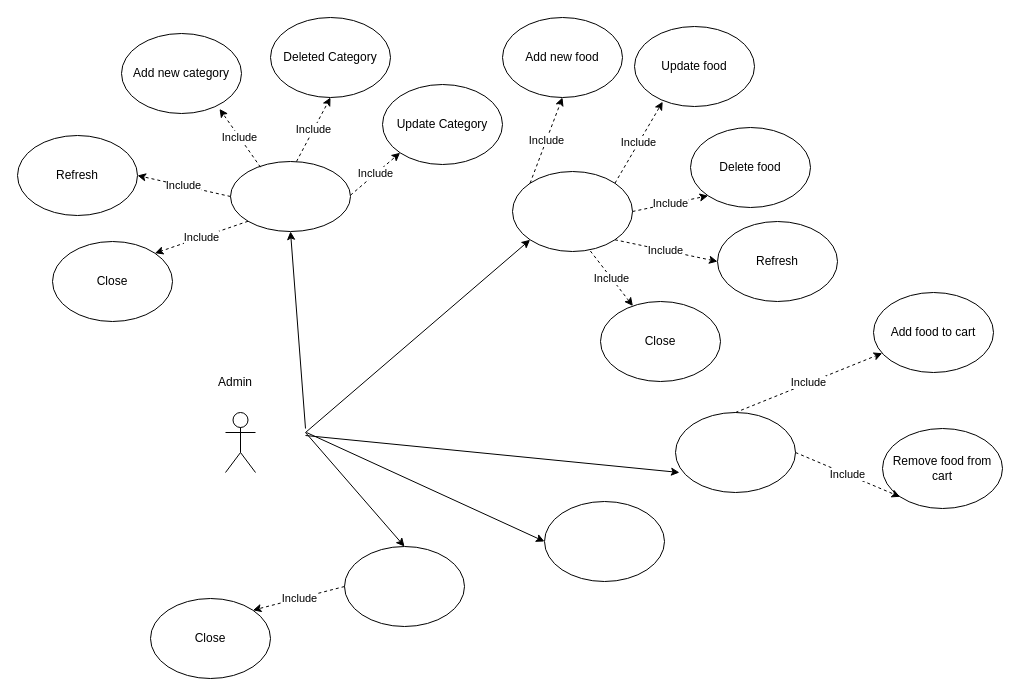
The diagram is 1020 pixels wide and 696 high, and some of its shapes have lost their labels. The shapes that lost their labels are listed below. From the top down, each one's centre as x and y in pixels, then its label:
At (x=290, y=196): "Category management".
At (x=572, y=211): "Manager MilkTea".
At (x=240, y=442): "Actor".
At (x=735, y=452): "Checkout Management".
At (x=604, y=541): "Bill Report".
At (x=404, y=586): "Login".
